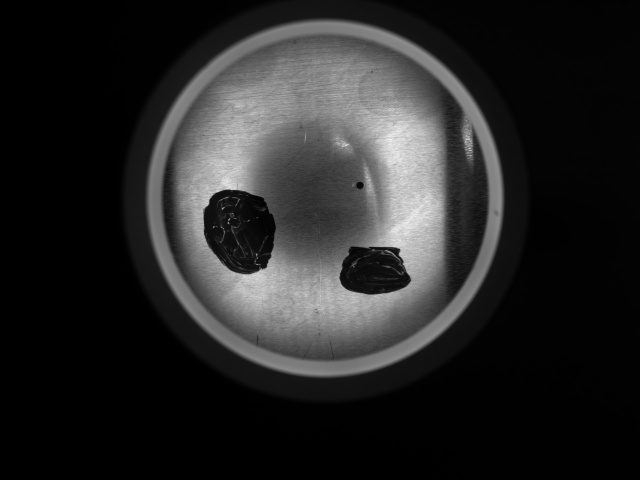zang_wu: (201, 188, 280, 275), (339, 244, 412, 296)
zhen_kong: (353, 180, 366, 191)
